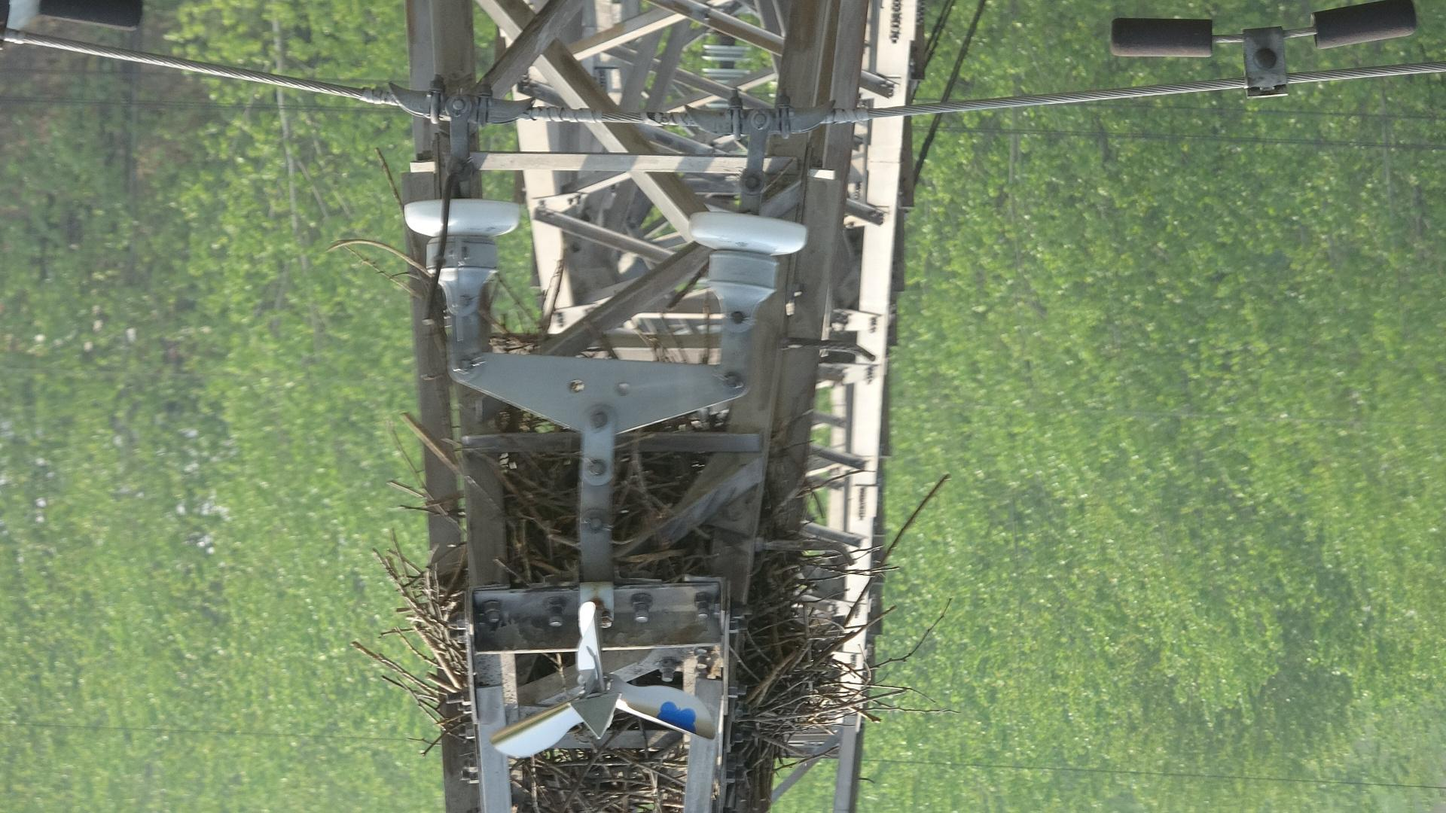damper: (1098, 1, 1426, 110)
nest: (383, 414, 869, 813)
